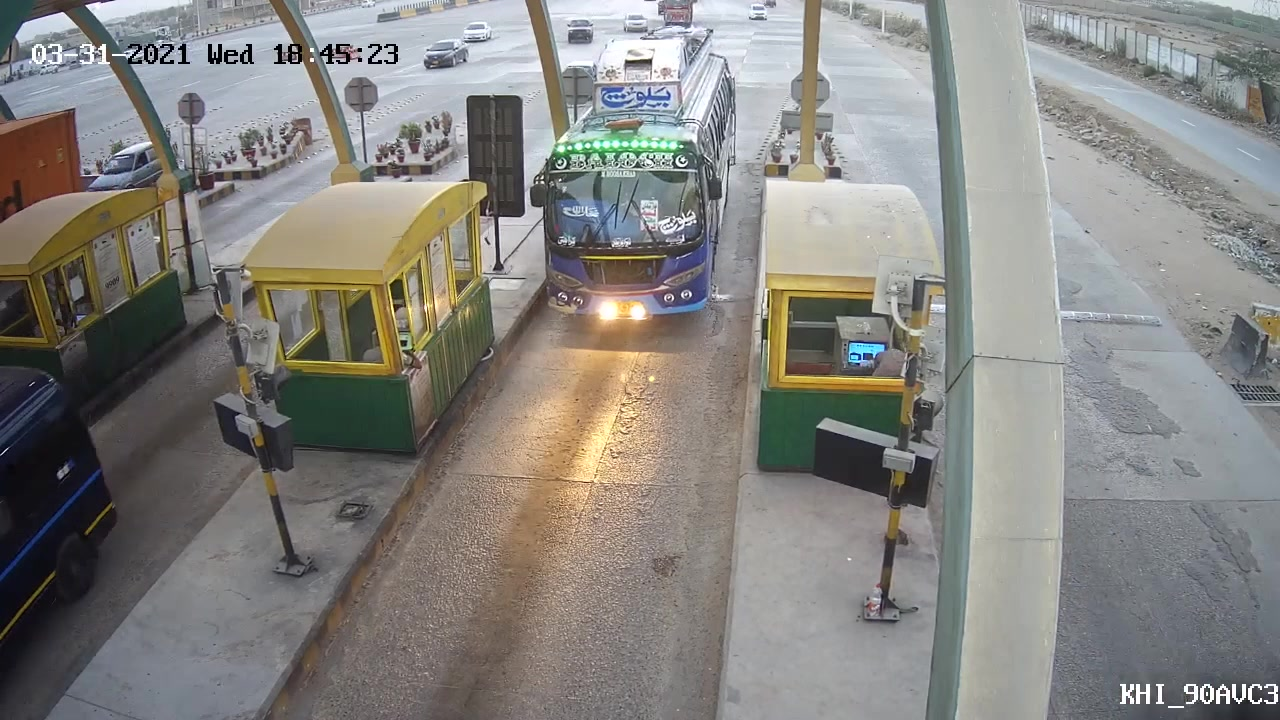F4: (512, 38, 748, 332)
